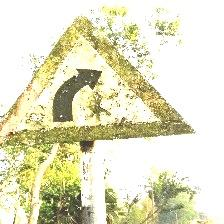Right-turn: (1, 15, 195, 143)
